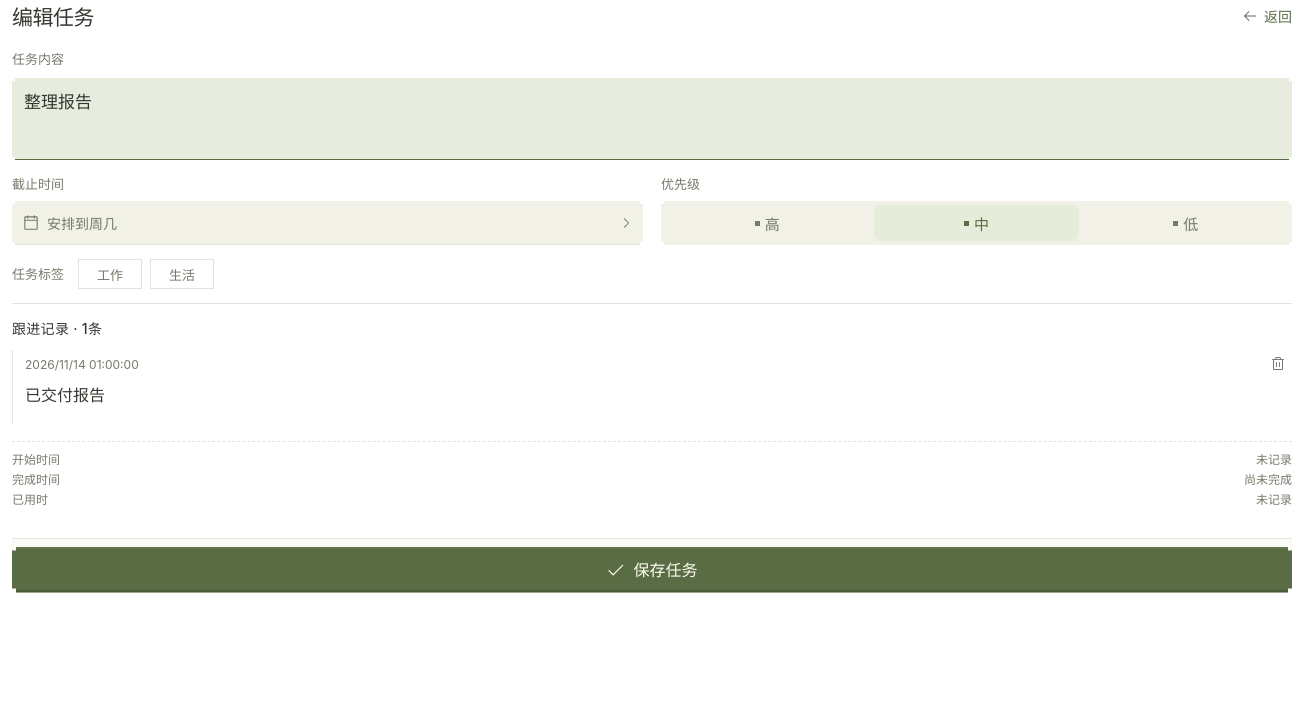
Scenario: keeps a completed task record visible when deleting fails
The width and height of the screenshot is (1304, 720).
Click the button named "删除跟进记录 1": x=1278, y=364 [1264,350,1292,378]
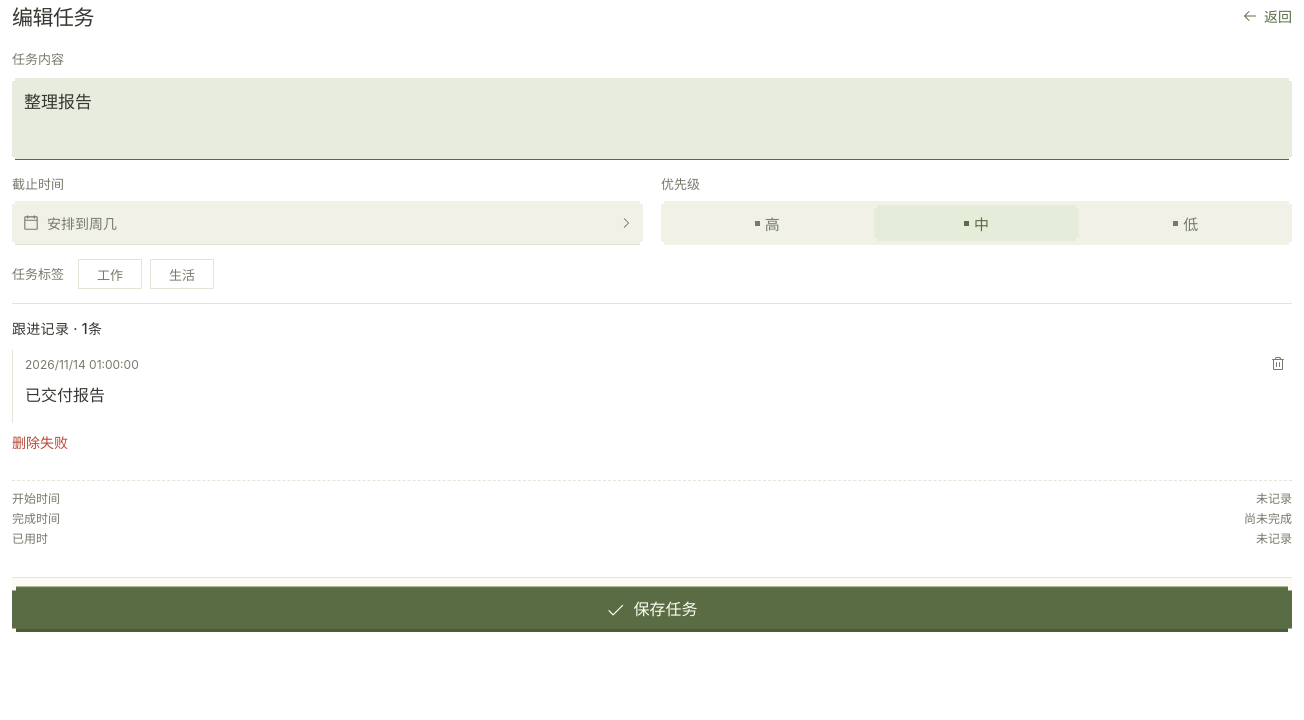
expect the text "已交付报告" is shown: met, box [25,385,105,405]
expect the message reads "删除失败": met, box [12,434,68,451]
